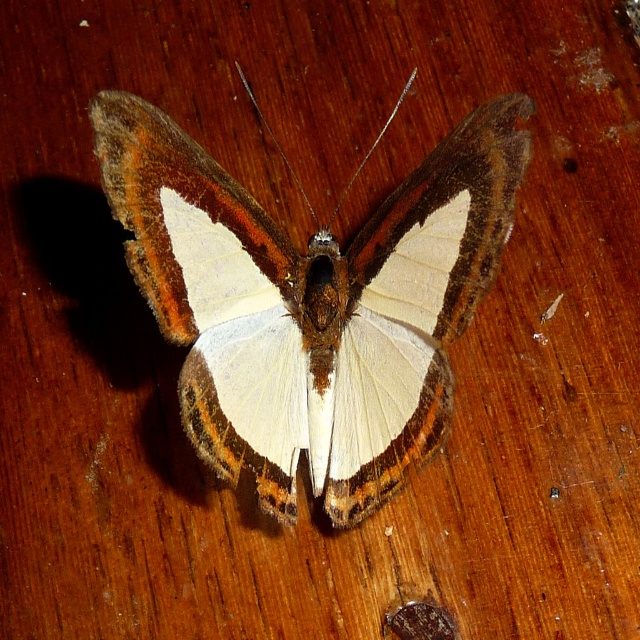Butterfly: (119, 48, 518, 569)
